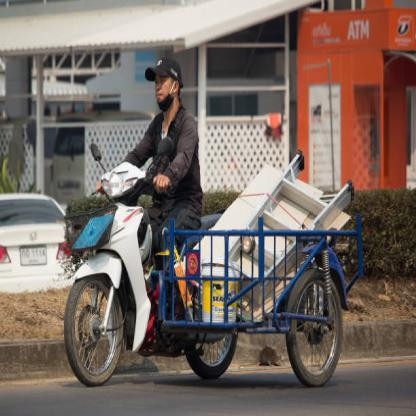Motorcycle: (65, 146, 160, 379)
